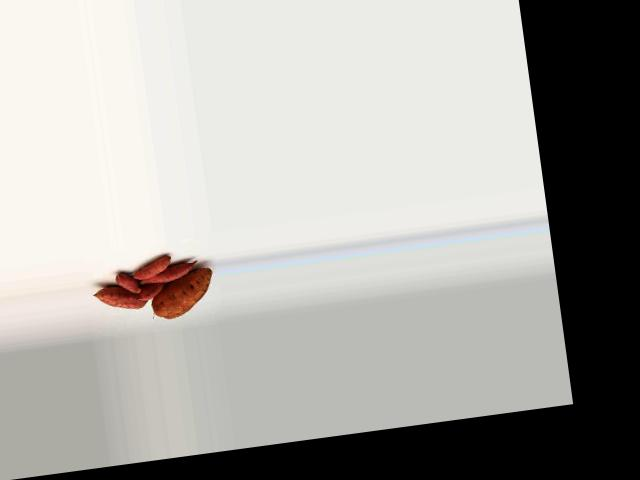sweet_potato: (90, 281, 146, 314)
